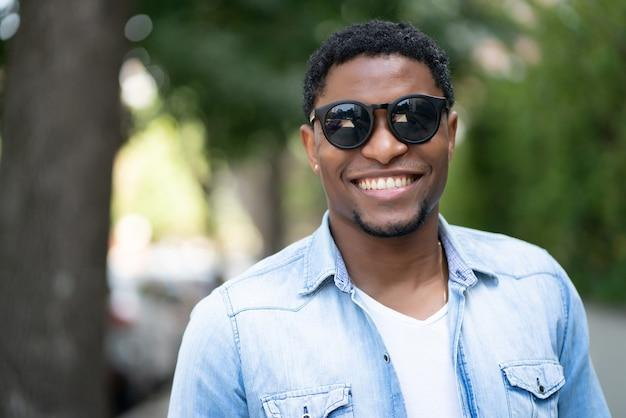sunglasses: (303, 86, 457, 154)
